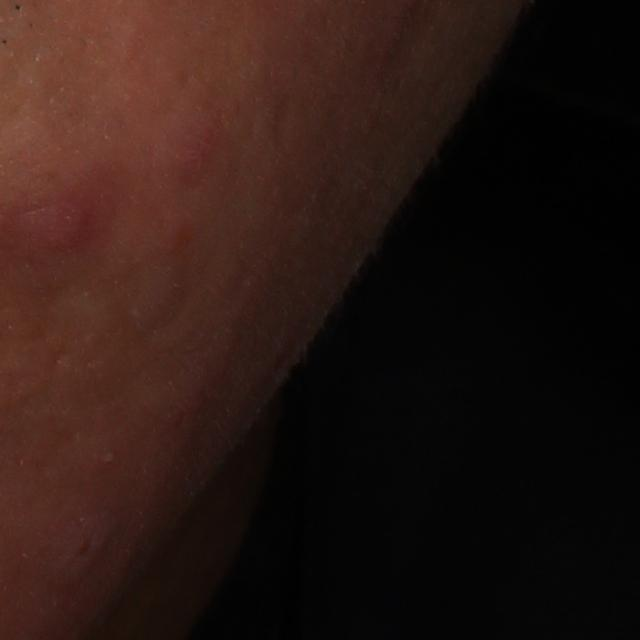papule: (34, 191, 99, 261), (162, 122, 221, 179)
